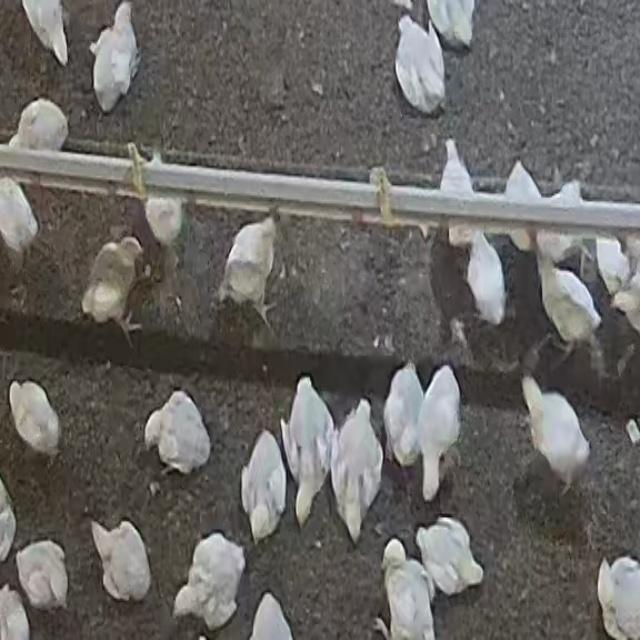chicken: (519, 372, 592, 498), (533, 245, 604, 363), (331, 399, 384, 542), (174, 532, 247, 631), (284, 377, 332, 524), (218, 216, 281, 315), (144, 390, 210, 477), (80, 238, 142, 327), (379, 540, 435, 638), (90, 2, 139, 113), (89, 520, 152, 604), (240, 431, 286, 543), (418, 518, 484, 596), (421, 368, 461, 495), (396, 13, 445, 116), (439, 140, 479, 252), (8, 379, 61, 458), (465, 230, 506, 331), (15, 540, 70, 612), (382, 366, 423, 462), (504, 160, 545, 253), (1, 178, 40, 274), (540, 181, 589, 256), (596, 557, 638, 640), (11, 98, 70, 154), (20, 0, 70, 64), (424, 1, 477, 50), (591, 234, 630, 294), (145, 196, 183, 253)
